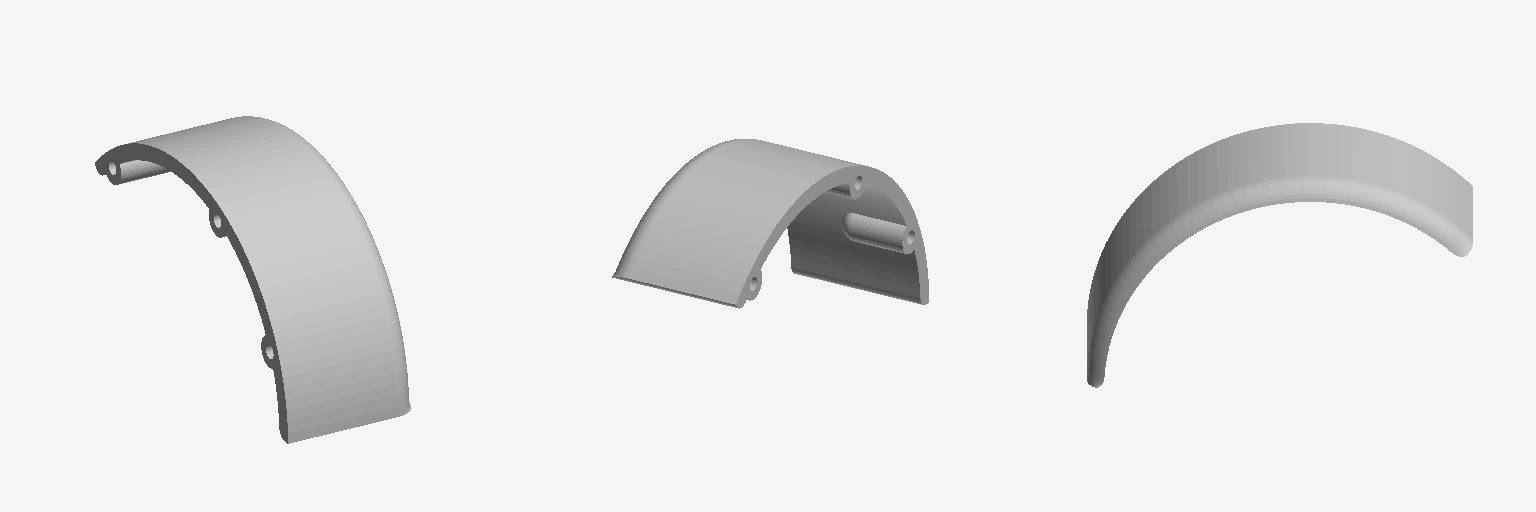
Rendered from spoiler_right.obj.
3 renders of one model, left to right at view 1: azimuth 30°, elevation 25°; view 2: azimuth 150°, elevation 25°; view 3: azimuth 270°, elevation 25°, orthographic.
Visible parts, largest first — view 1: Body2; view 2: Body2; view 3: Body2.
Boxes of the visible parts, box(x1,y1,x2,y2) form: Body2: box(95, 116, 410, 443); Body2: box(612, 139, 928, 308); Body2: box(1087, 123, 1472, 387).
Bounding box in the file's own units: 30 × 45 × 77.75.